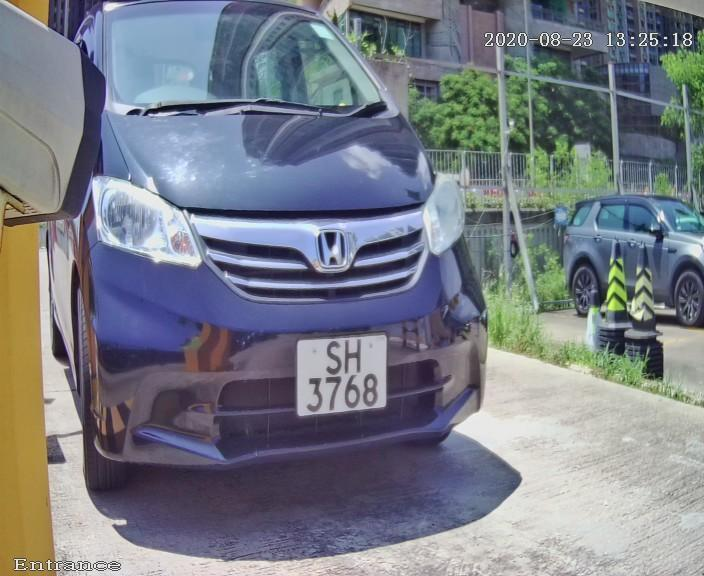Car: (16, 1, 503, 541)
License Plate: (263, 307, 413, 446)
